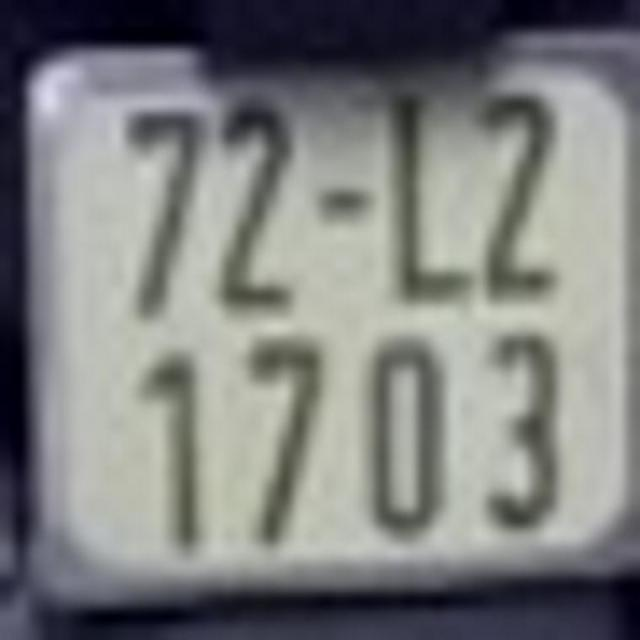0: (366, 335, 453, 531)
1: (135, 355, 211, 544)
2: (481, 81, 556, 289), (225, 96, 298, 309)
3: (495, 338, 561, 528)
7: (123, 102, 207, 320), (245, 330, 318, 544)
L: (386, 90, 474, 300)
